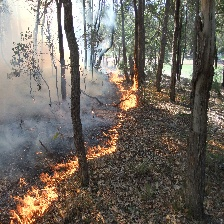fire: (10, 157, 78, 224), (86, 118, 126, 163), (108, 61, 140, 110)
smoke: (3, 3, 81, 126)
